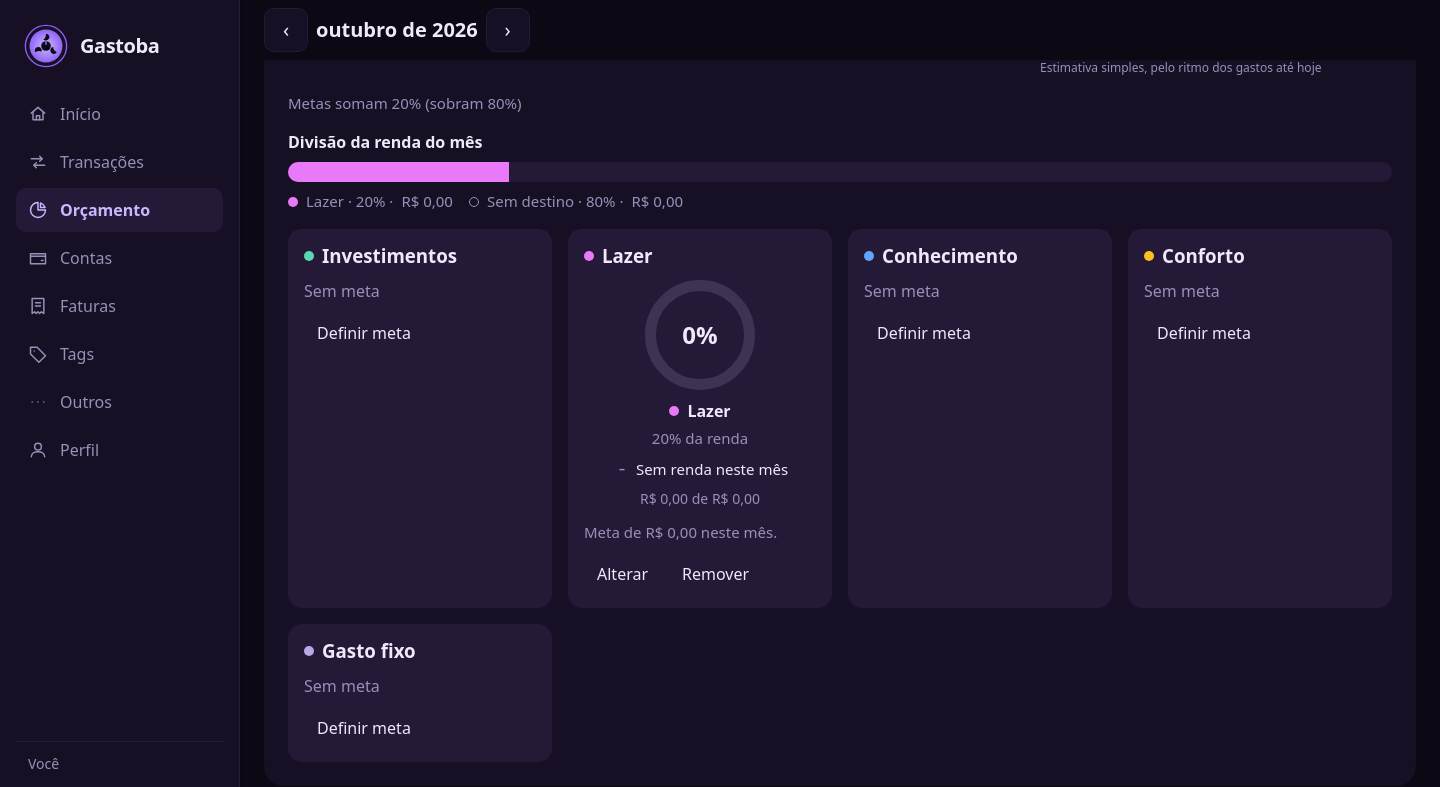
Test: Orcamento › remove a meta depois de confirmar
(page scrolled)
expect the list item "Lazer" shows "20% da renda": met, box [568,229,832,608]
What coordinates should you click on to do the following:
click the button with aria-label "Remover a meta de Lazer"
I would click on:
 (716, 574)
Its box is [669,556,762,592].
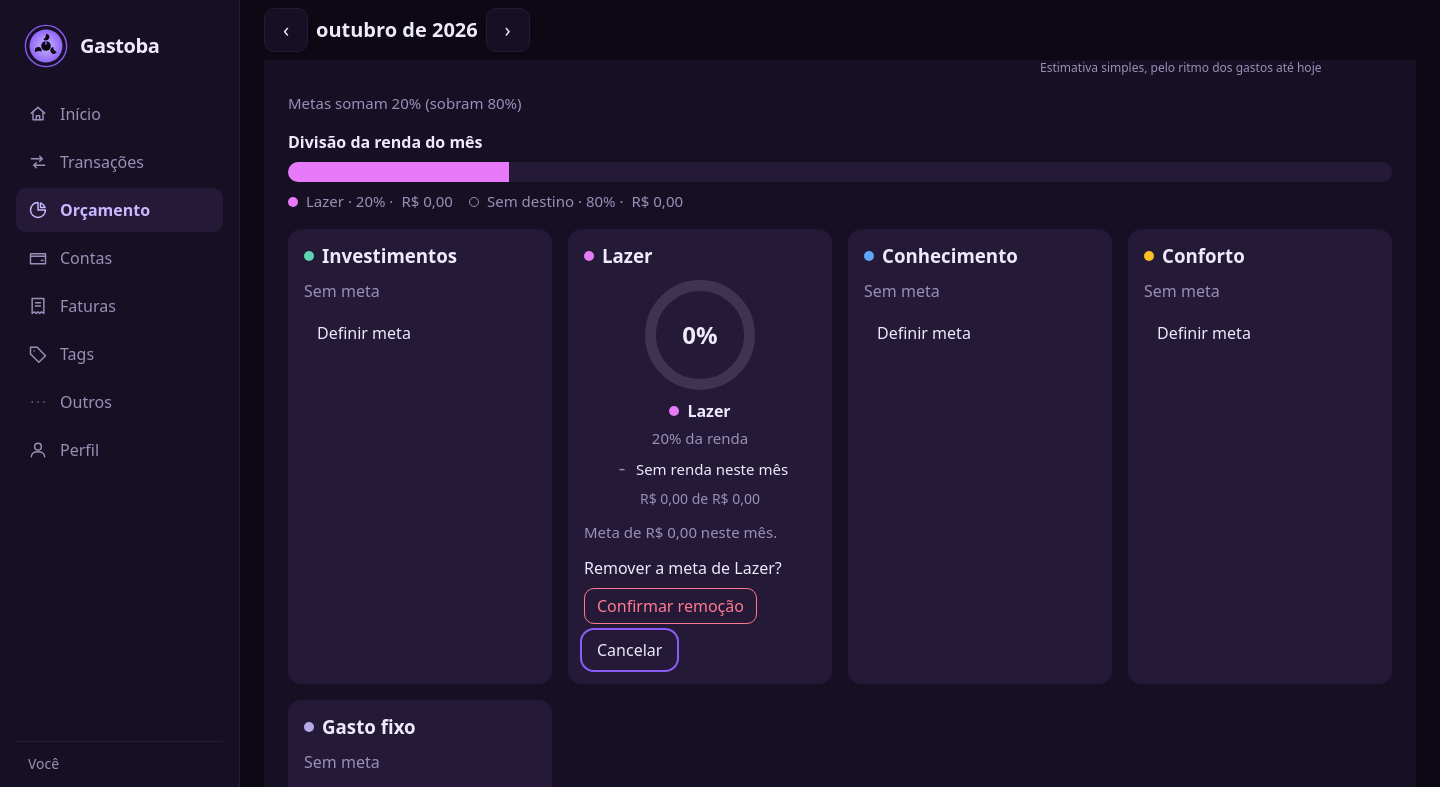
What coordinates should you click on to do the following:
click the button "Confirmar remoção"
I would click on:
 (670, 606)
Its box is [584,588,757,624].
(page scrolled)
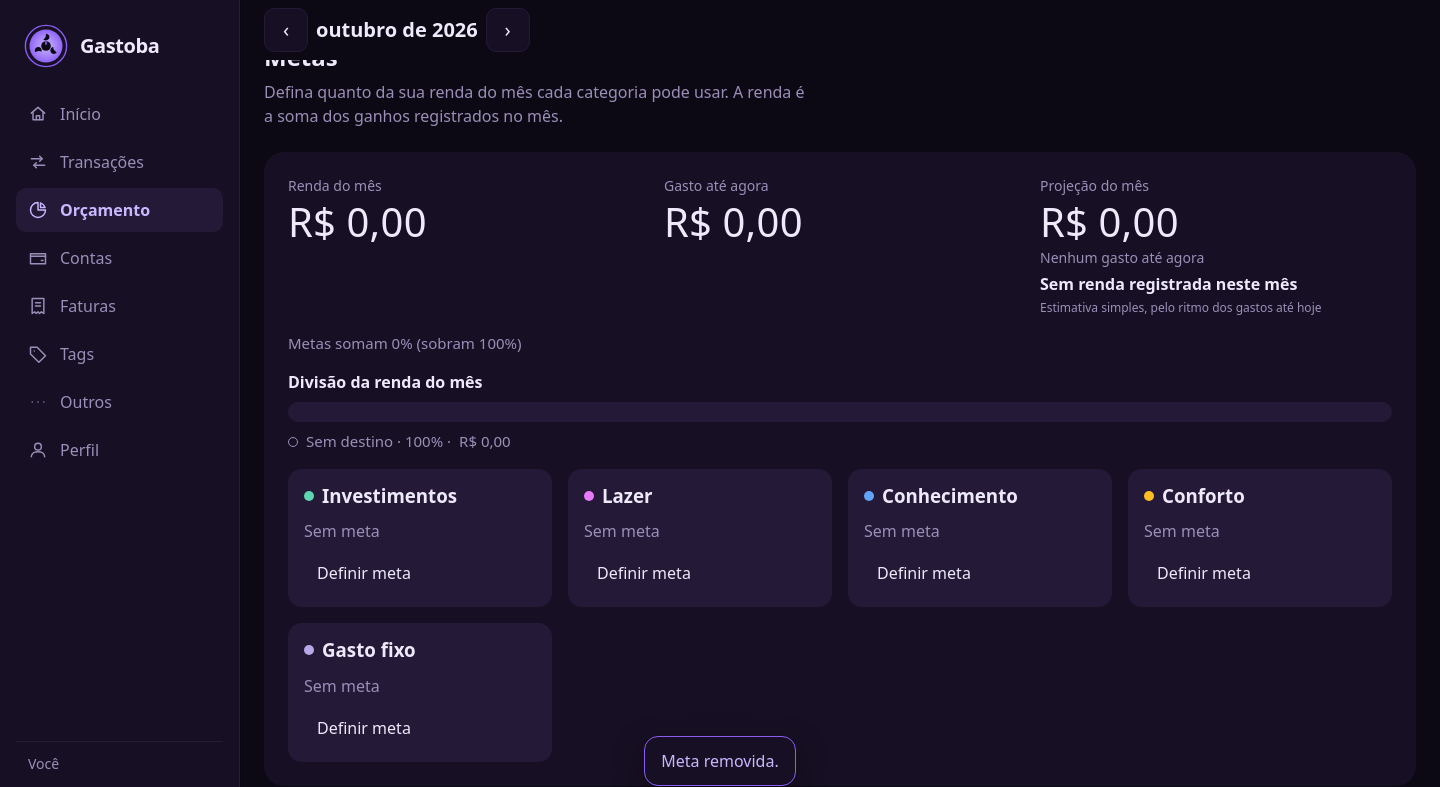
expect the text "Meta removida." is shown: met, box [661,750,779,772]
expect the text "Sem meta" is shown 5 times: met, box [304,520,380,542]; [584,520,660,542]; [864,520,940,542]; [1144,520,1220,542]; [304,675,380,697]
